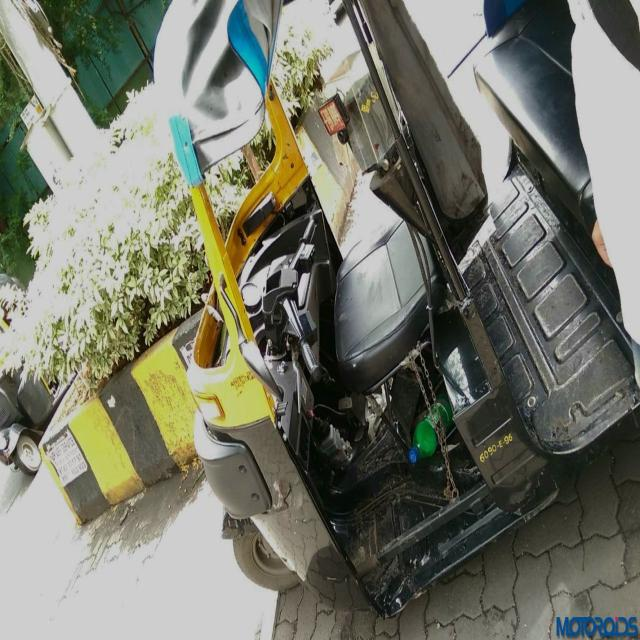autorickshaw: (154, 0, 640, 615), (0, 368, 66, 477), (0, 274, 25, 332)
